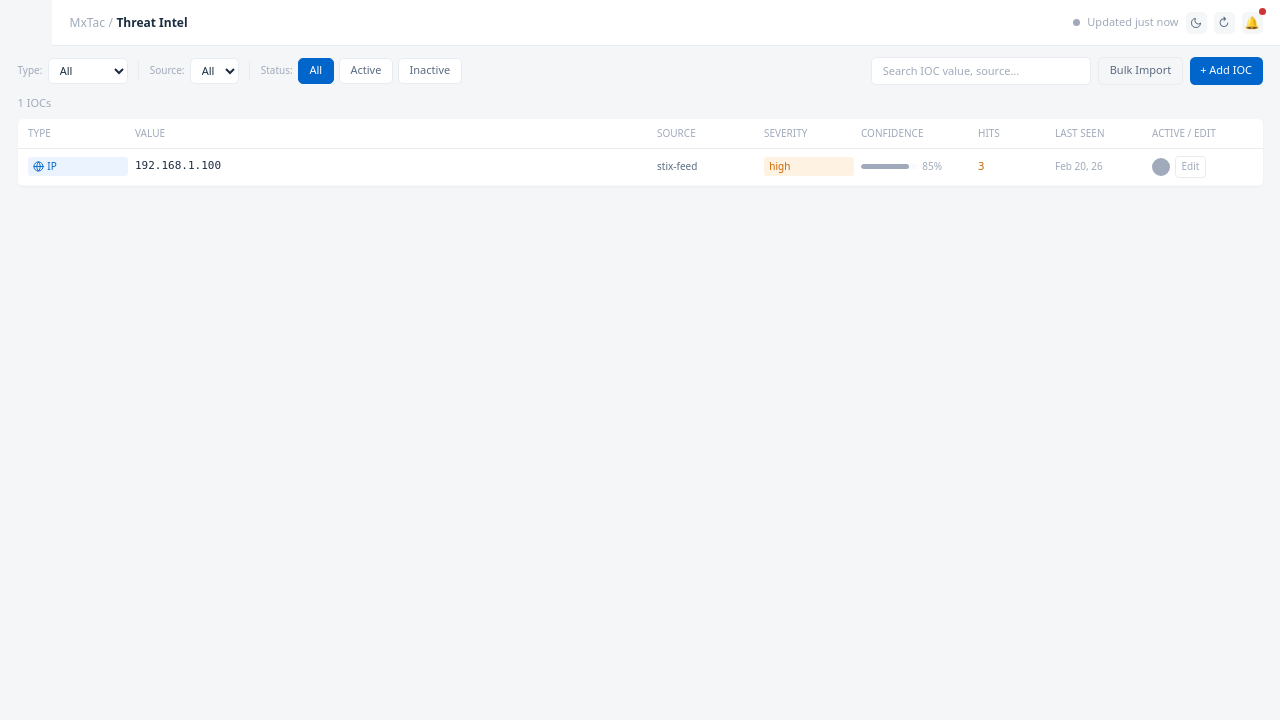
it: ThreatIntelPage › row selection › clicking the panel close button (×) closes the panel
Click the text "192.168.1.100" at (178, 166), box [135,159,221,172]
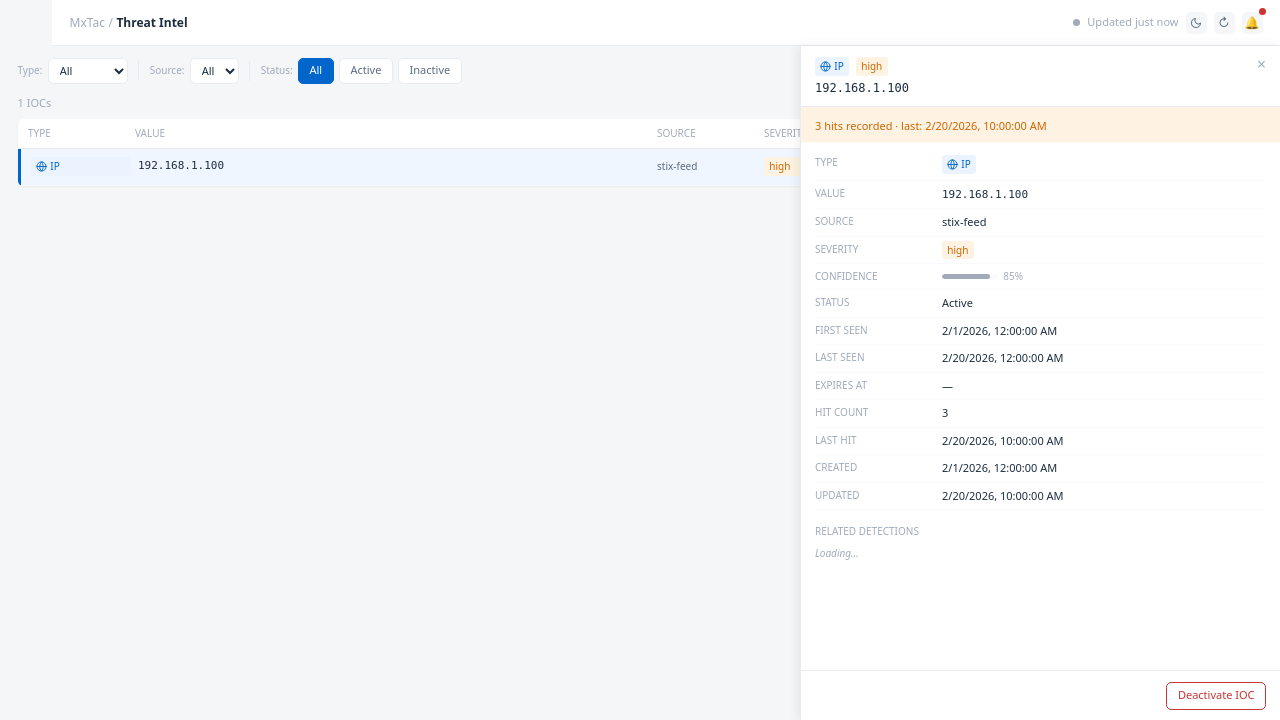
Expected: the text "Related Detections" is shown, [815,524,919,538]
Click the button titled "Close" at (1262, 64), box [1257,56,1266,72]
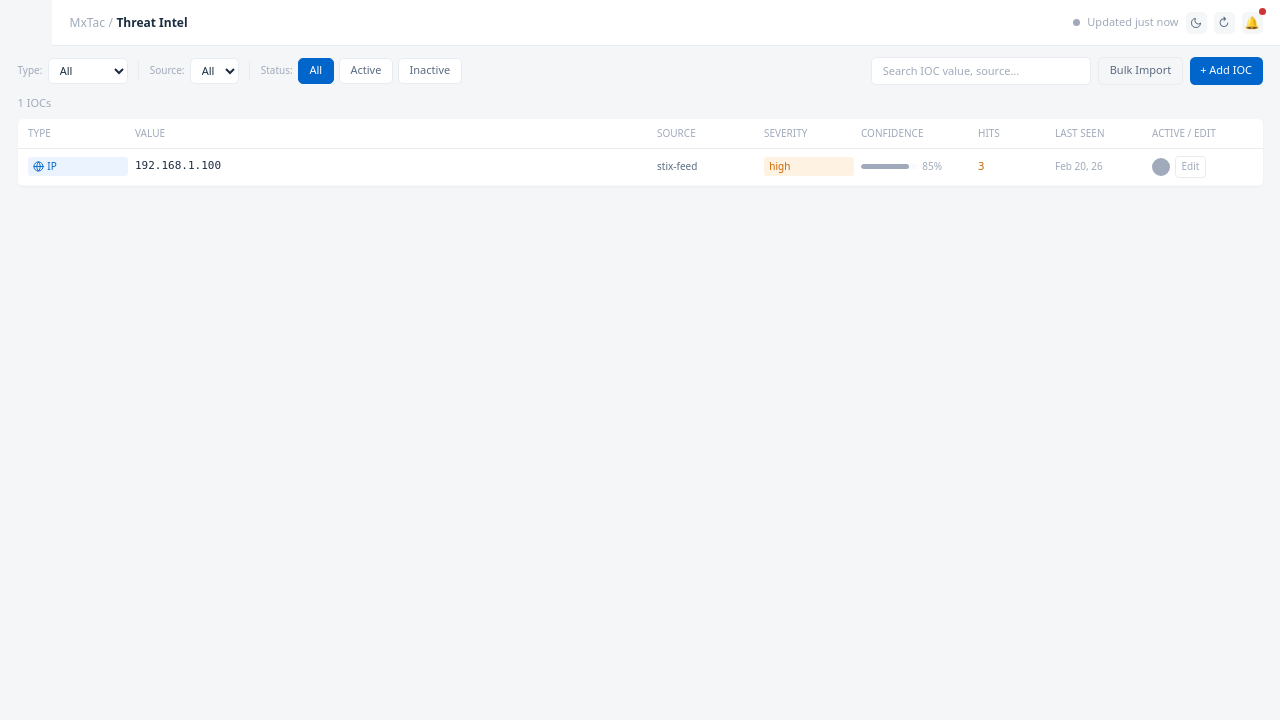
Expected: the text "Related Detections" is gone
